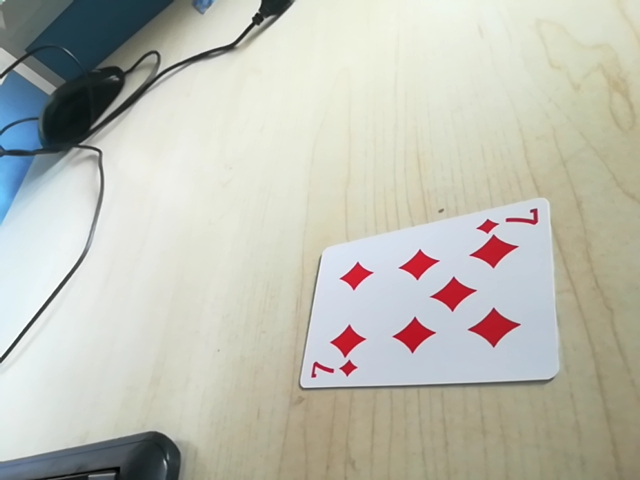fk 7: (473, 205, 542, 234), (303, 358, 363, 386)
